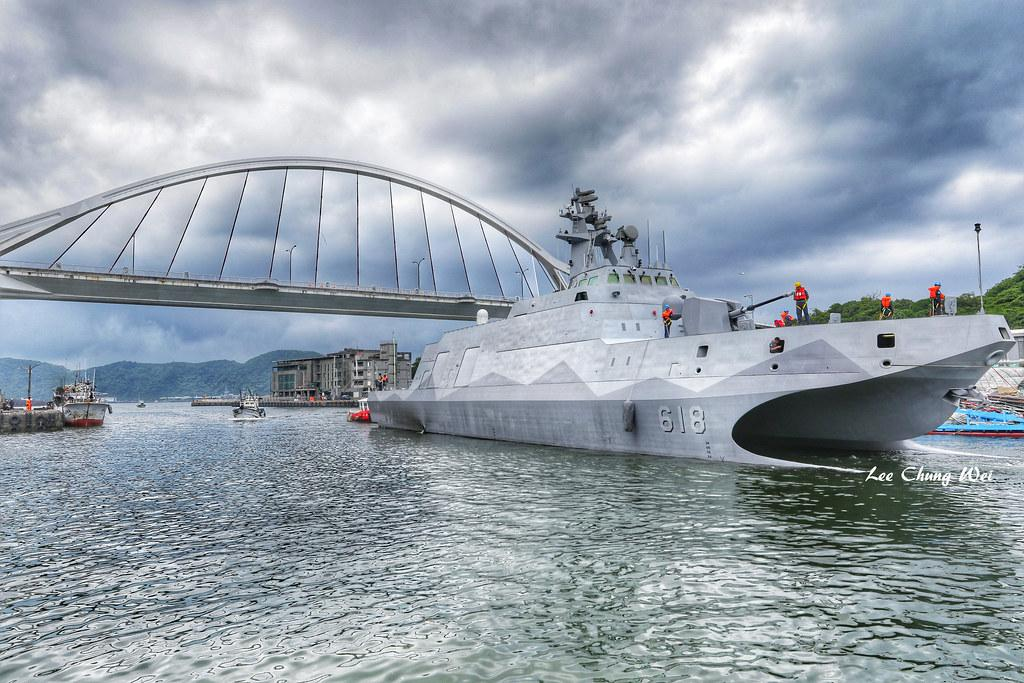PassengerShip: (52, 372, 114, 428), (229, 389, 267, 421)
